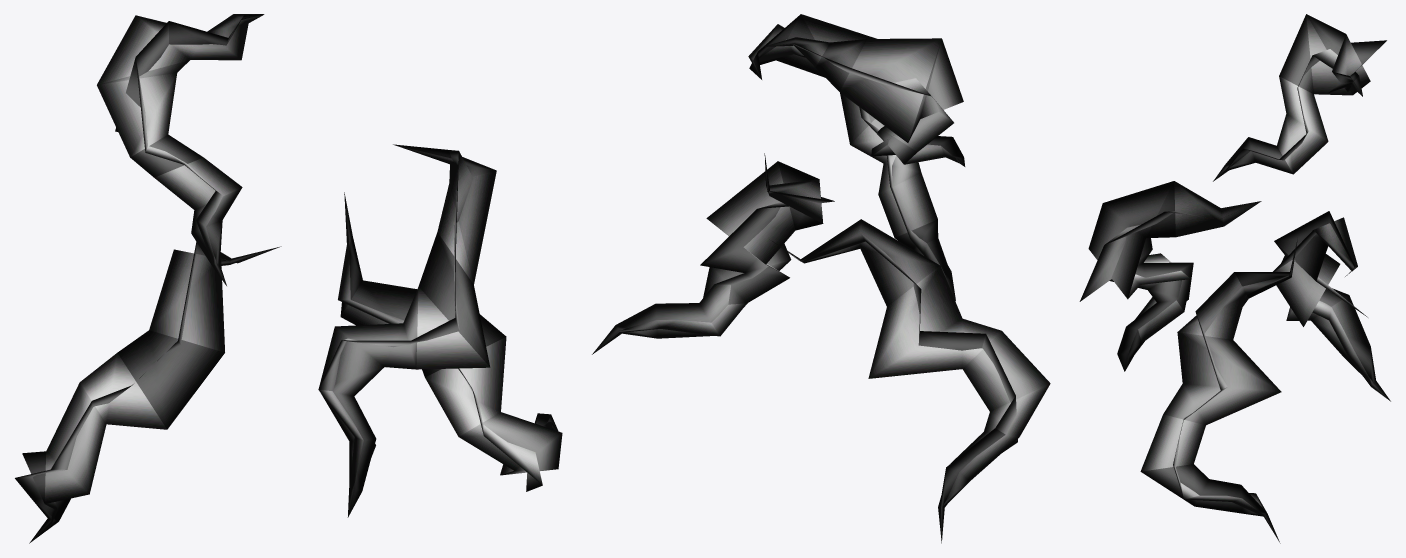
File: vfx_kurp_0143.dae
The picture shows the model from 3 angles, left to right: view 1: azimuth 30°, elevation 25°; view 2: azimuth 150°, elevation 25°; view 3: azimuth 270°, elevation 25°; orthographic projection. The views are drawn at different scales.
Visible parts, largest first — view 1: vfx_kurp_0143; view 2: vfx_kurp_0143; view 3: vfx_kurp_0143.
Part boxes in pixels (x1,y1,x2,y2): vfx_kurp_0143: (15, 14, 562, 543); vfx_kurp_0143: (592, 14, 1050, 543); vfx_kurp_0143: (1079, 14, 1390, 543).
Bounding box in the file's own units: 4.31 × 2.85 × 4.15.
1 material, 1 textured.
